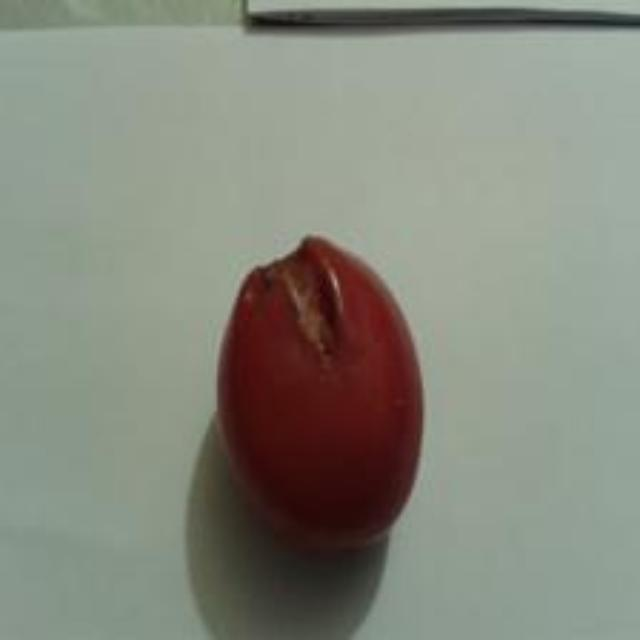defect: (198, 224, 453, 562)
